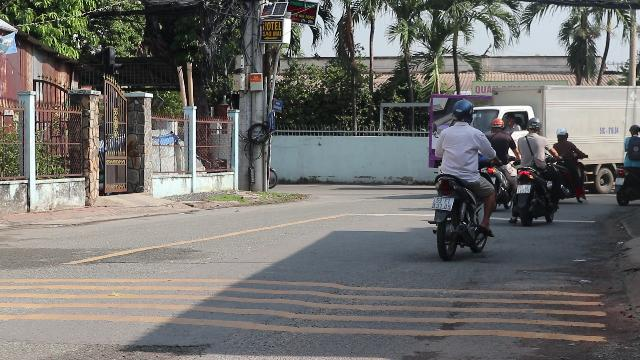helmet: (451, 99, 474, 124), (526, 116, 542, 132)
licenseplate: (431, 197, 453, 211), (517, 185, 531, 194)
motorcyclist: (427, 98, 498, 258), (511, 115, 559, 224)
